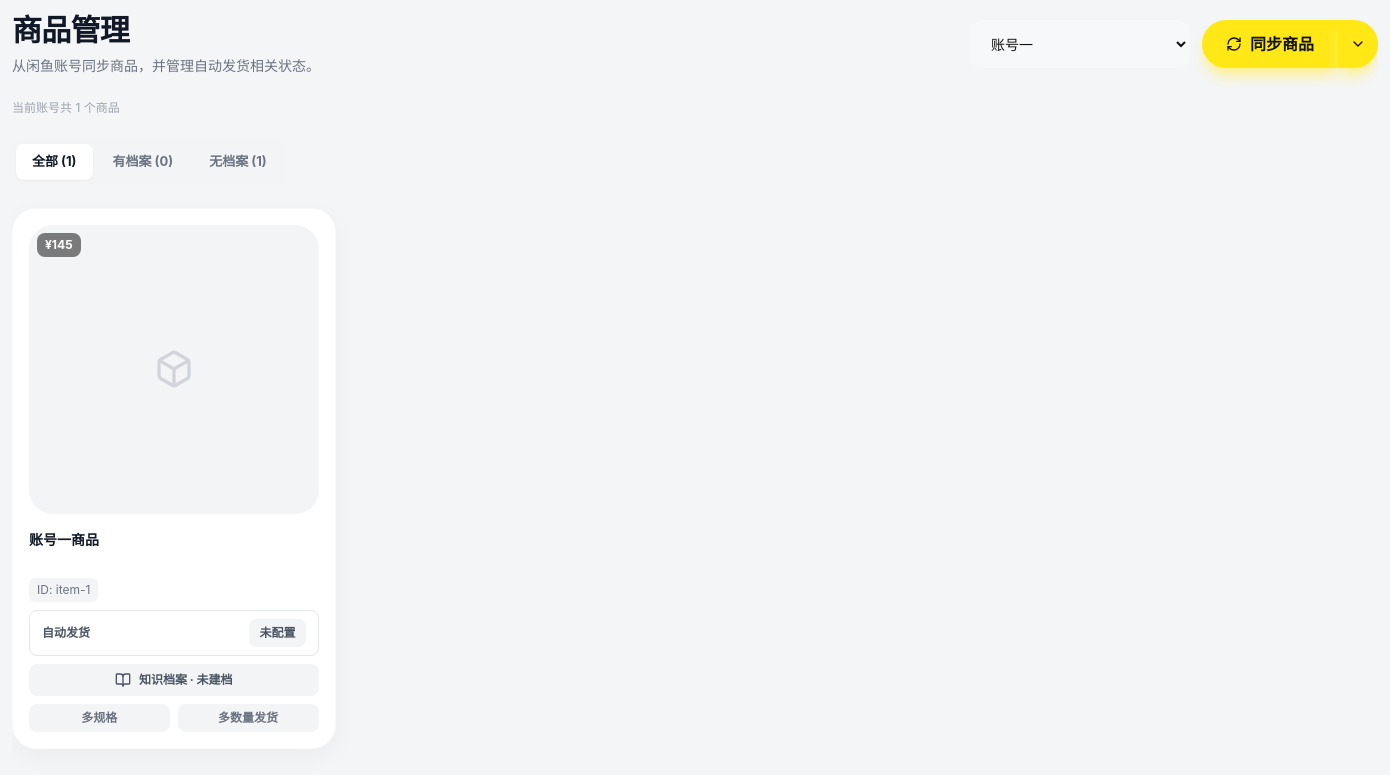
Test: ItemList account filtering › shows reconciliation statistics and retries the image when sync returns a new URL
Click the button "同步商品".
click(1270, 44)  # box [1202,20,1338,68]
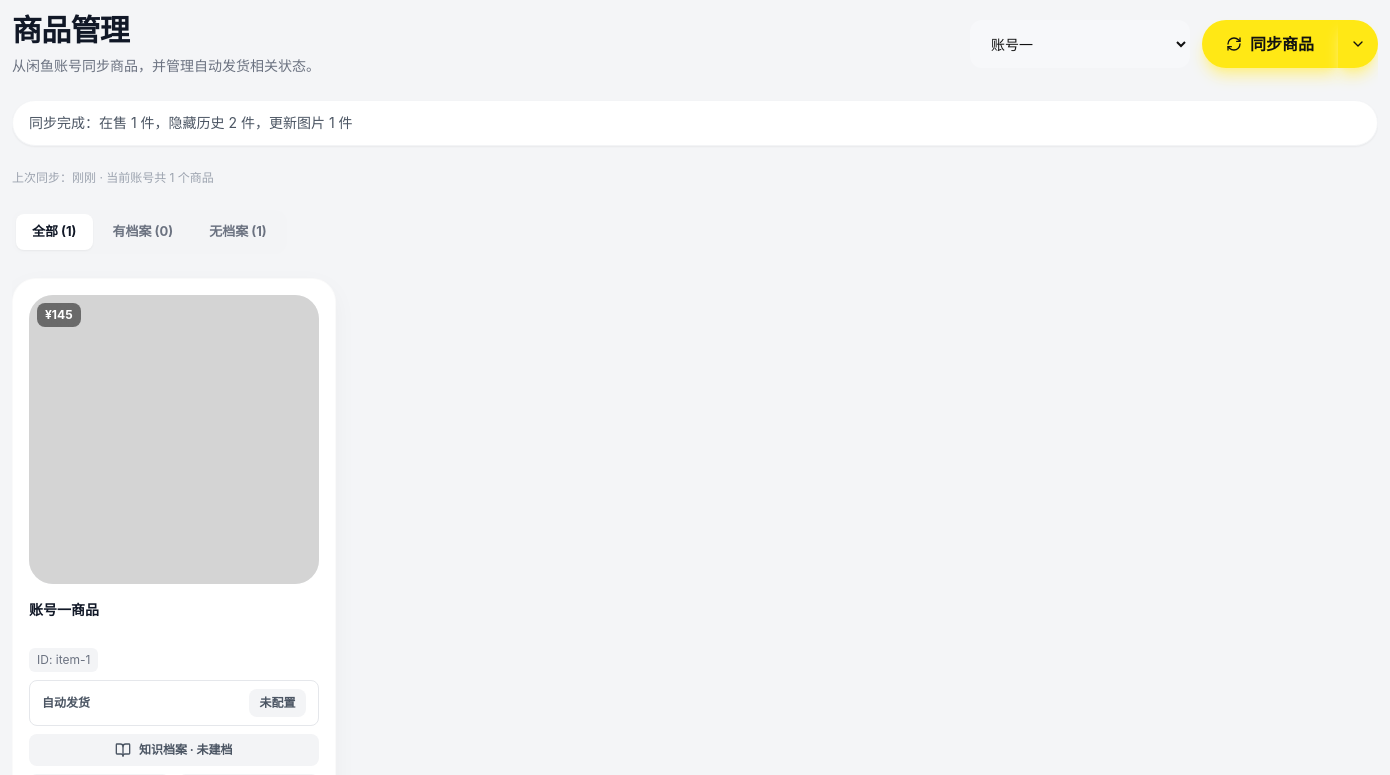
Now the text "同步完成：在售 1 件，隐藏历史 2 件，更新图片 1 件" is shown, box [12,100,1378,146]
